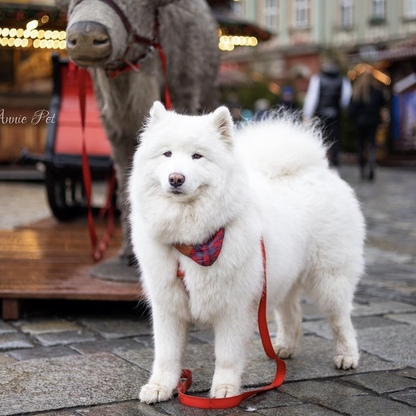samoyed: (117, 96, 367, 410)
